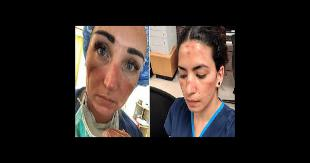without_mask: (90, 31, 142, 118), (178, 61, 217, 113)
